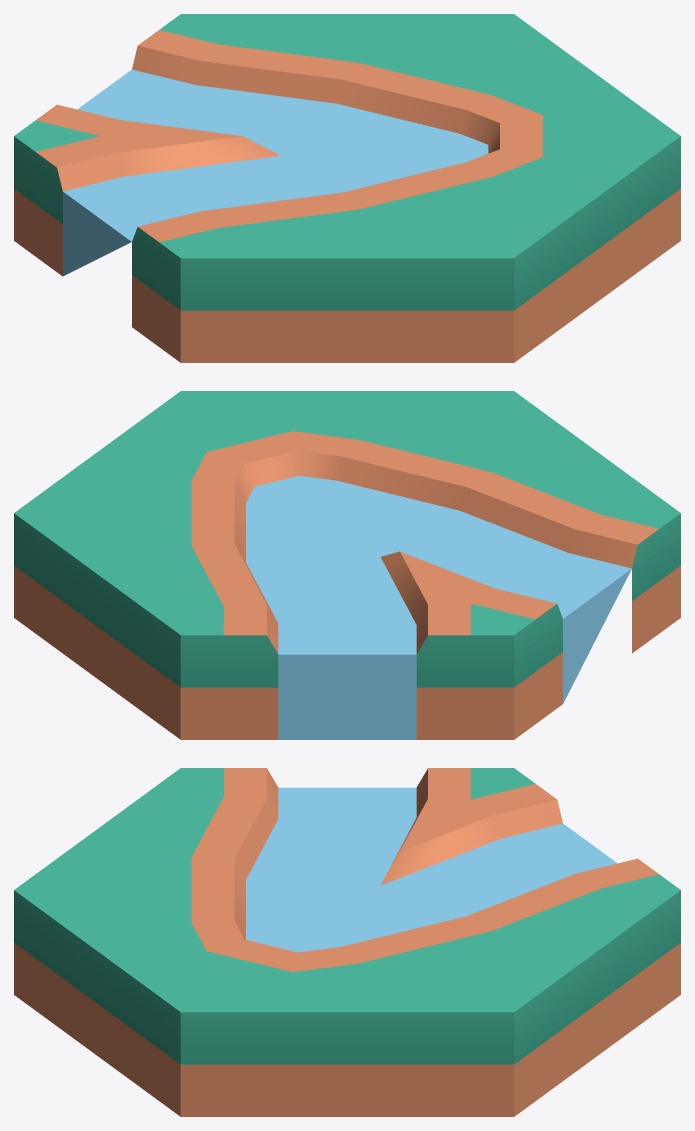
The model's file is kenney-hexagon-river-corner-sharp.glb.
3 views of the same model, one above another, from view 1: azimuth 30°, elevation 25°; view 2: azimuth 150°, elevation 25°; view 3: azimuth 270°, elevation 25° (orthographic).
Parts seen in each view (by area): view 1: river_corner_sharp; view 2: river_corner_sharp; view 3: river_corner_sharp.
Boxes of the visible parts, x1,y1,x2,y2 form: river_corner_sharp: [14, 14, 680, 362]; river_corner_sharp: [14, 391, 680, 739]; river_corner_sharp: [14, 768, 680, 1116].
Size of the model in its own units: 1 by 0.2 by 1.15.
Materials: 1 (1 with a texture image).
